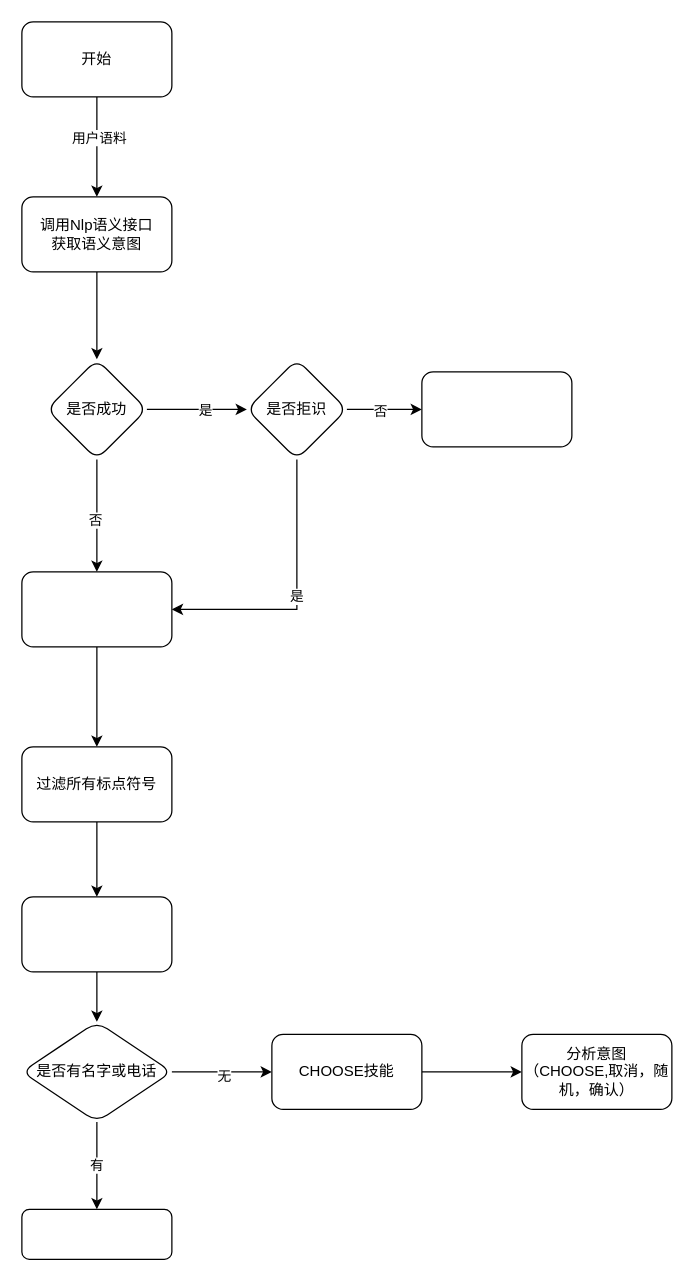
Image size: 694x1281. Some labels were removed from this diagram. The box of each missing label's shape, as (x1, y1, x2, y2) in pixels:
匹配打电话意图 正则表达式: (21, 896, 172, 972)
本地兜底语义解析: (21, 571, 172, 647)
联系人搜索: (421, 371, 572, 447)
过滤出名字或者电话: (21, 1208, 172, 1259)
